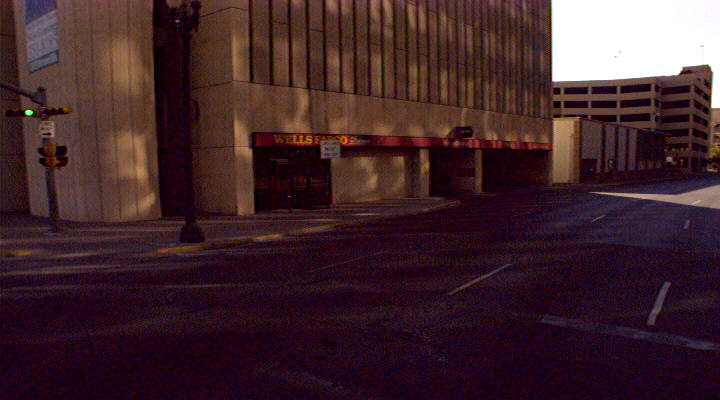Ramp: (15, 227, 180, 262)
